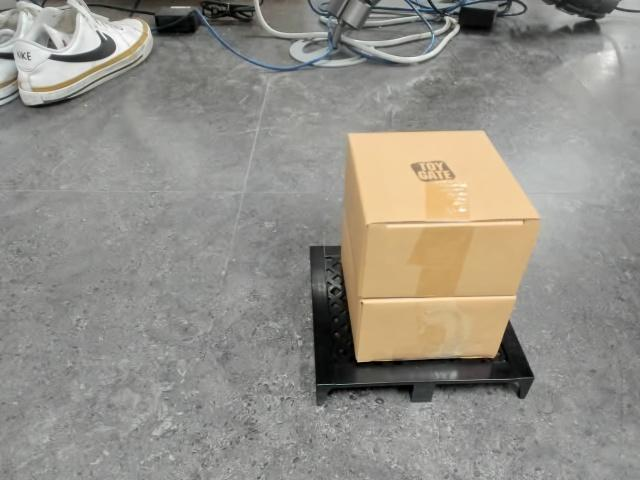box: (309, 129, 543, 406)
